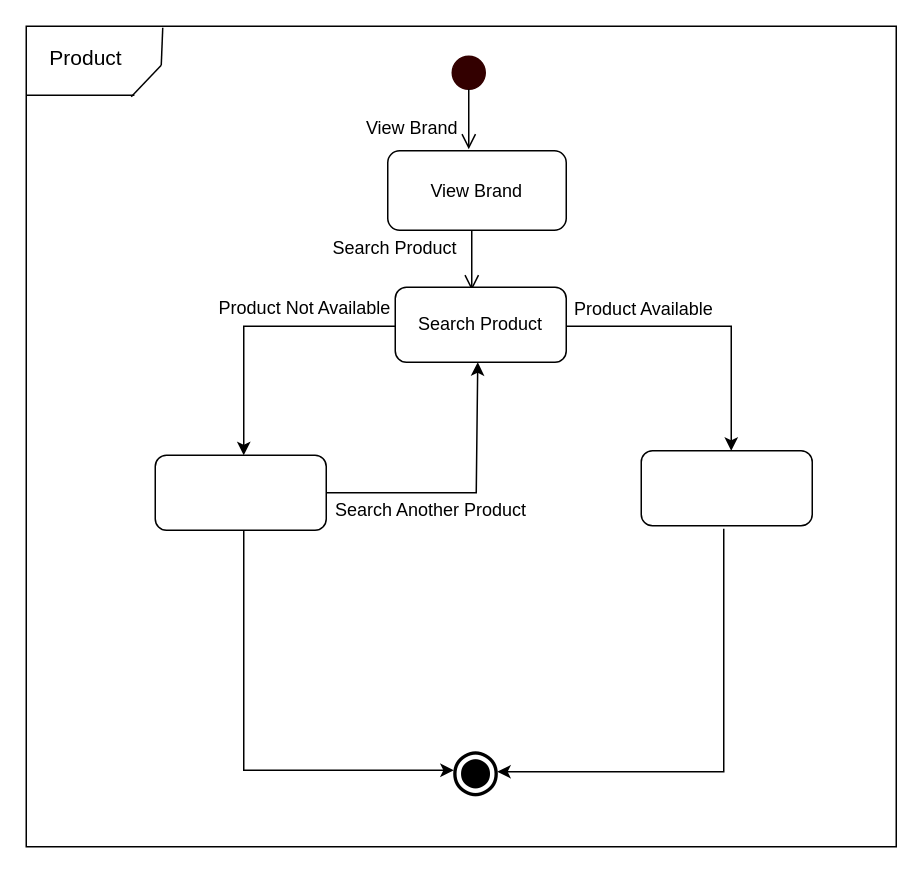
Some shapes in this 923 by 873 pixel diagram are drawn without their labels. The centre of each missing label's shape, as x and y in pixels:
Not Available: [240,492]
View Product: [726,487]
